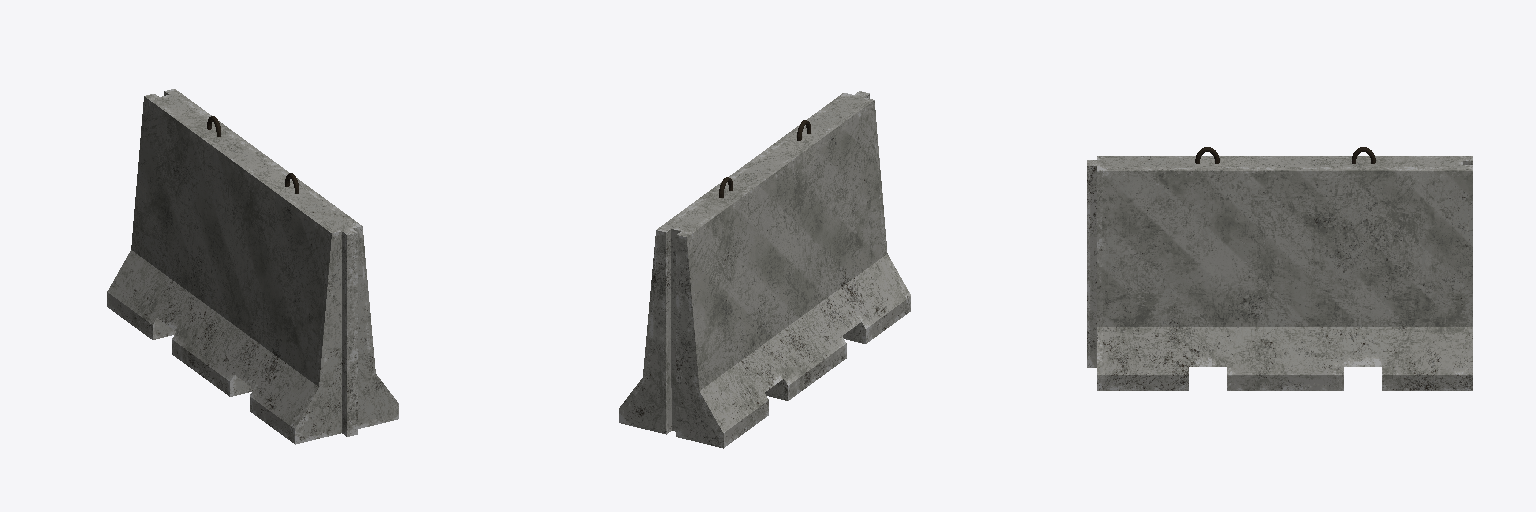
The picture shows the model from 3 angles: view 1: azimuth 30°, elevation 25°; view 2: azimuth 150°, elevation 25°; view 3: azimuth 270°, elevation 25°; orthographic projection.
Visible parts, largest first — view 1: Concrete Barricade LP; view 2: Concrete Barricade LP; view 3: Concrete Barricade LP.
Part boxes in pixels (x1,y1,x2,y2): Concrete Barricade LP: (107, 89, 398, 444); Concrete Barricade LP: (619, 91, 910, 448); Concrete Barricade LP: (1087, 147, 1472, 390).
Size of the model in its own units: 0.5401 by 1.08 by 1.73.
Materials: 1 (1 with a texture image).